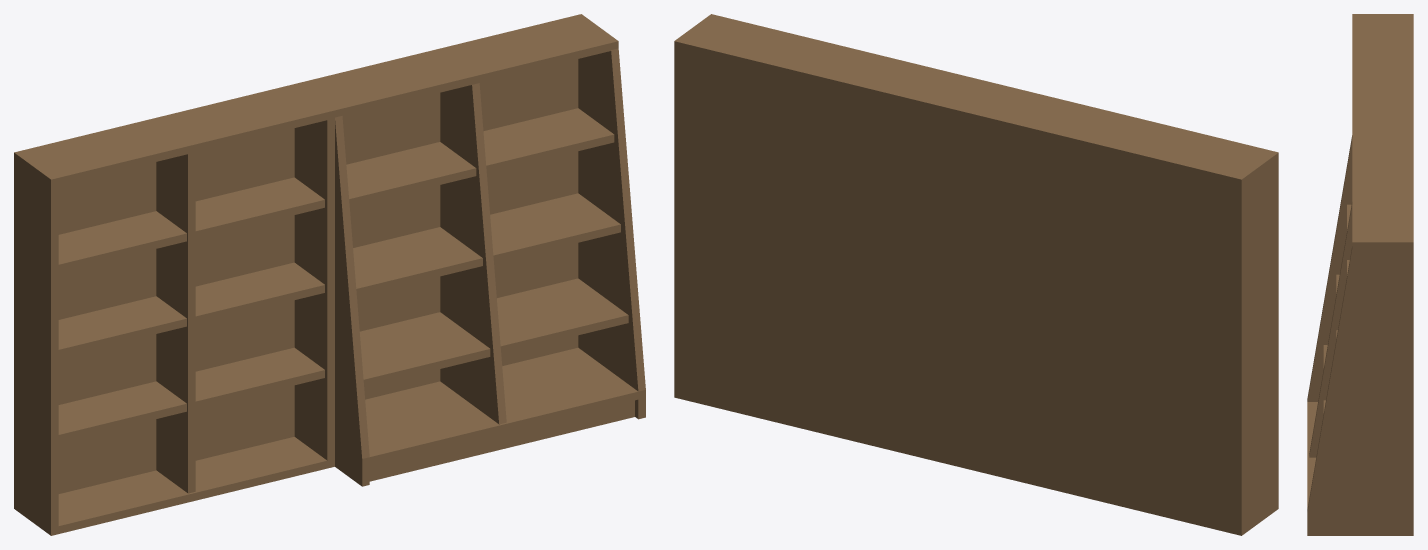
3 renders of one model, left to right at view 1: azimuth 30°, elevation 25°; view 2: azimuth 150°, elevation 25°; view 3: azimuth 270°, elevation 25°, orthographic. The views are drawn at different scales.
Parts seen in each view (by area): view 1: 1, 2; view 2: 1, 2; view 3: 2, 1.
Part boxes in pixels (box(x1,y1,x2,y2)): 1: box(14, 83, 334, 535); 2: box(298, 14, 645, 486); 1: box(958, 83, 1278, 535); 2: box(674, 14, 994, 466); 2: box(1307, 128, 1413, 535); 1: box(1352, 14, 1413, 127).
Bounding box in the file's own units: 1.5 × 0.9 × 0.295.
